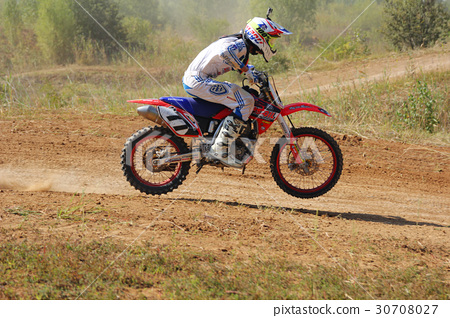helmet: (240, 18, 280, 63)
